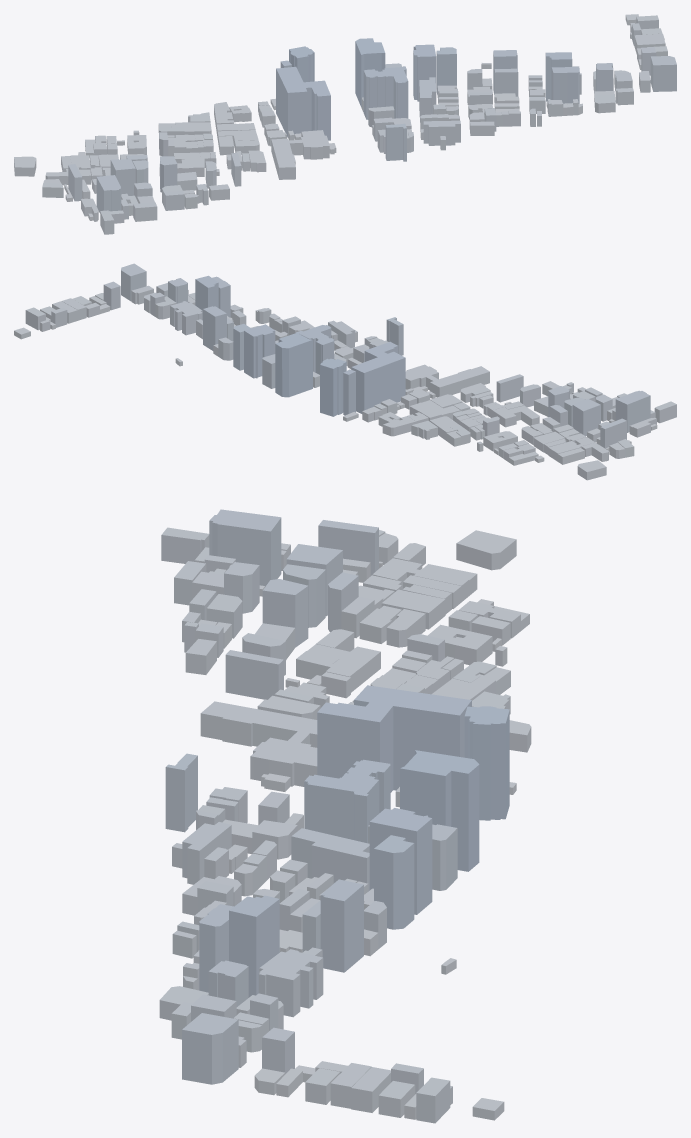
The picture shows the model from 3 angles, top to bottom: view 1: azimuth 30°, elevation 25°; view 2: azimuth 150°, elevation 25°; view 3: azimuth 270°, elevation 25°; orthographic projection. The views are drawn at different scales.
Bounding box in the file's own units: 508 × 40.21 × 138.
